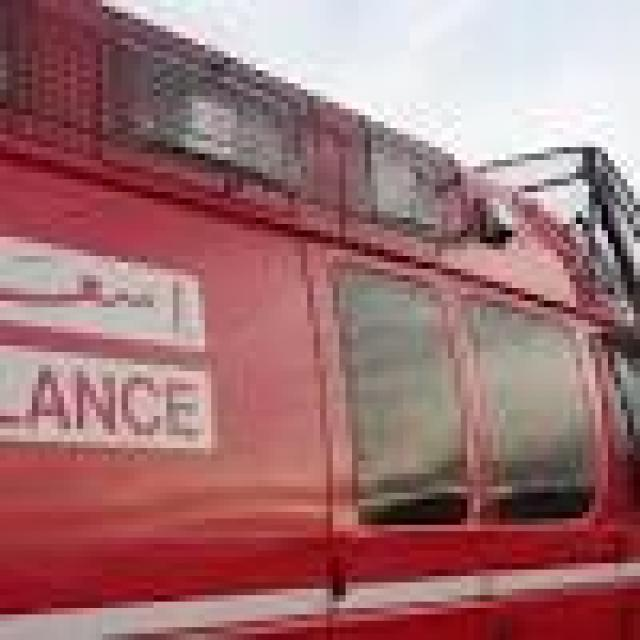emergency: (12, 0, 640, 640)
